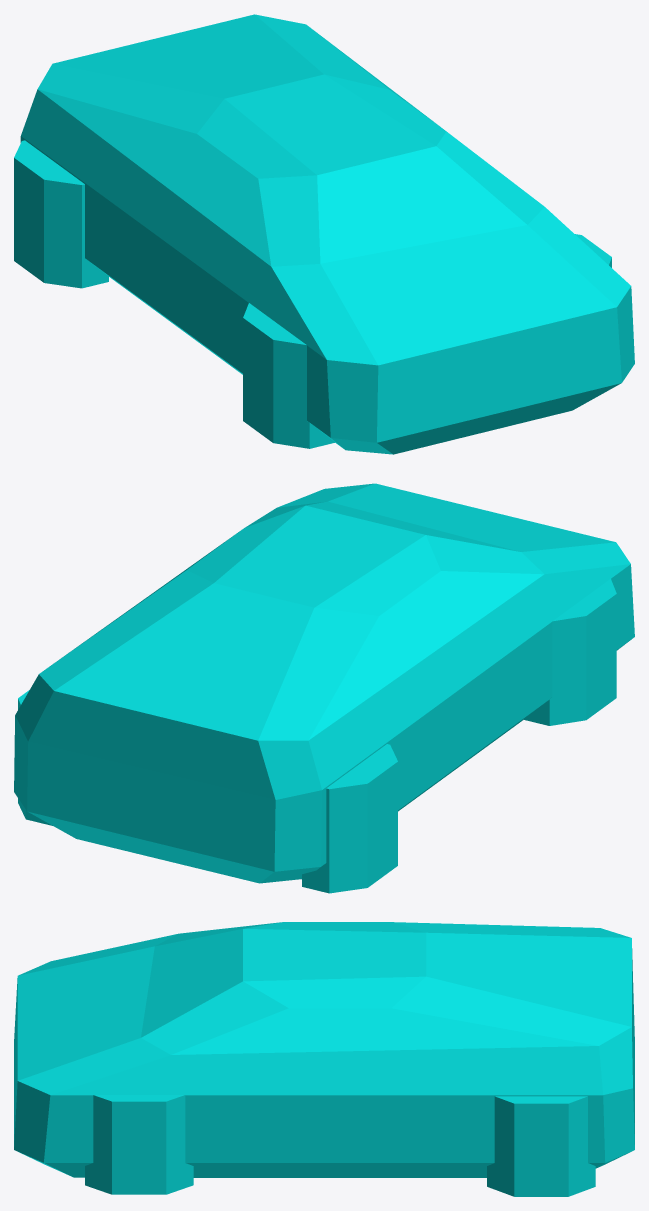
The model's file is SM_Veh_Luxury_Car_01_Collision.fbx.
3 views of the same model, one above another, from view 1: azimuth 30°, elevation 25°; view 2: azimuth 150°, elevation 25°; view 3: azimuth 270°, elevation 25° (orthographic). The views are drawn at different scales.
Visible parts, largest first — view 1: SM_Veh_Luxury_Car_01_Collision; view 2: SM_Veh_Luxury_Car_01_Collision; view 3: SM_Veh_Luxury_Car_01_Collision.
Boxes of the visible parts, left/top/right/bottom form: SM_Veh_Luxury_Car_01_Collision: left=14, top=14, right=634, bottom=454; SM_Veh_Luxury_Car_01_Collision: left=14, top=483, right=634, bottom=893; SM_Veh_Luxury_Car_01_Collision: left=14, top=922, right=634, bottom=1196.
Size of the model in its own units: 302 by 158 by 519.
